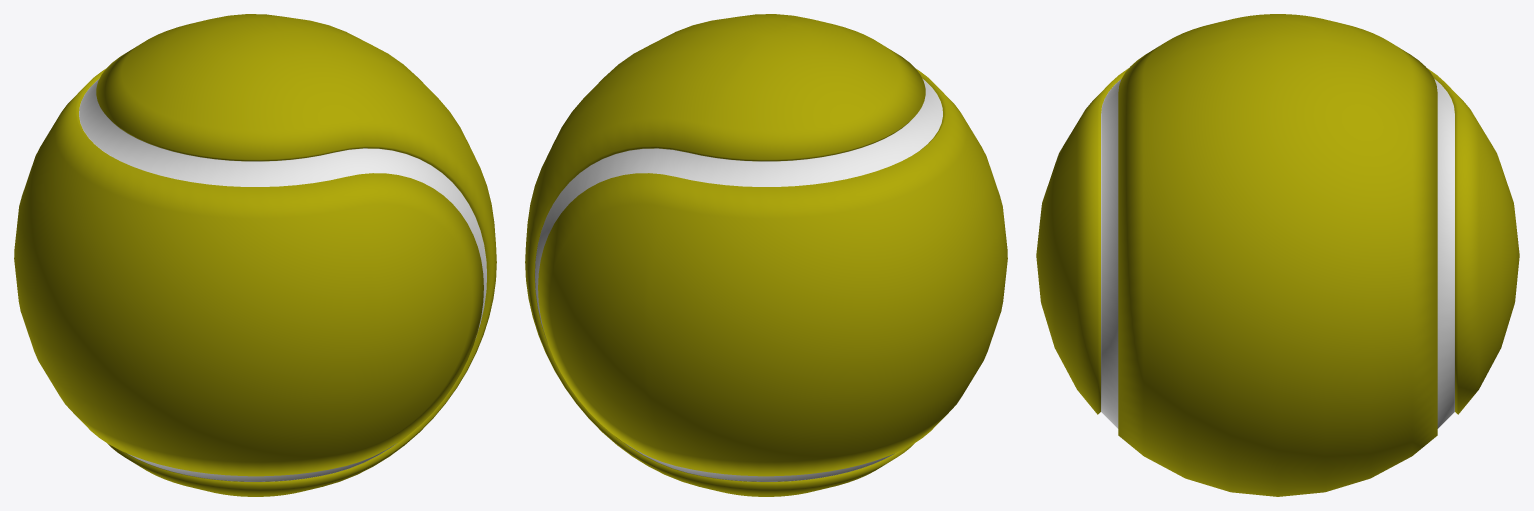
Rendered from tennis_ball.glb.
3 views of the same model, side by side, from view 1: azimuth 30°, elevation 25°; view 2: azimuth 150°, elevation 25°; view 3: azimuth 270°, elevation 25° (orthographic).
Parts seen in each view (by area): view 1: ball; view 2: ball; view 3: ball.
Part boxes in pixels (box(x1,y1,x2,y2)): ball: box(14, 14, 496, 496); ball: box(525, 14, 1007, 496); ball: box(1036, 14, 1519, 496).
Size of the model in its own units: 2 by 2 by 2.
